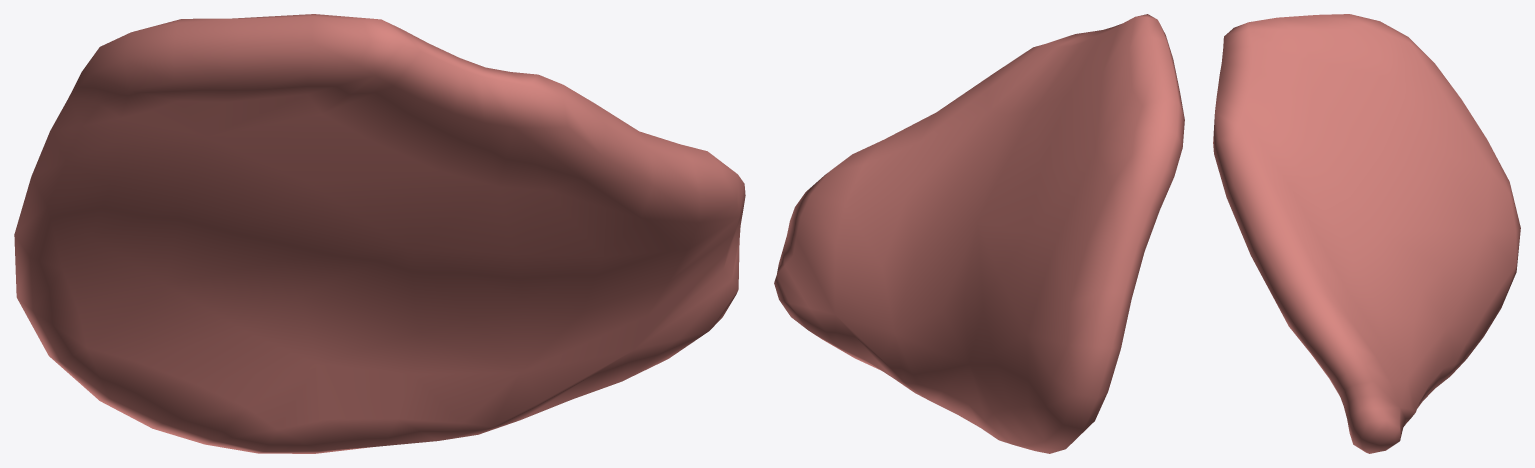
3 views of the same model, side by side, from view 1: azimuth 30°, elevation 25°; view 2: azimuth 150°, elevation 25°; view 3: azimuth 270°, elevation 25° (orthographic). The views are drawn at different scales.
Parts seen in each view (by area): view 1: ZA_301a6755d0866733; view 2: ZA_301a6755d0866733; view 3: ZA_301a6755d0866733.
Part boxes in pixels (left/top/right/bottom): ZA_301a6755d0866733: left=14, top=14, right=745, bottom=453; ZA_301a6755d0866733: left=774, top=14, right=1184, bottom=453; ZA_301a6755d0866733: left=1213, top=14, right=1520, bottom=453.
Size of the model in its own units: 0.00388 by 0.00331 by 0.0027.
